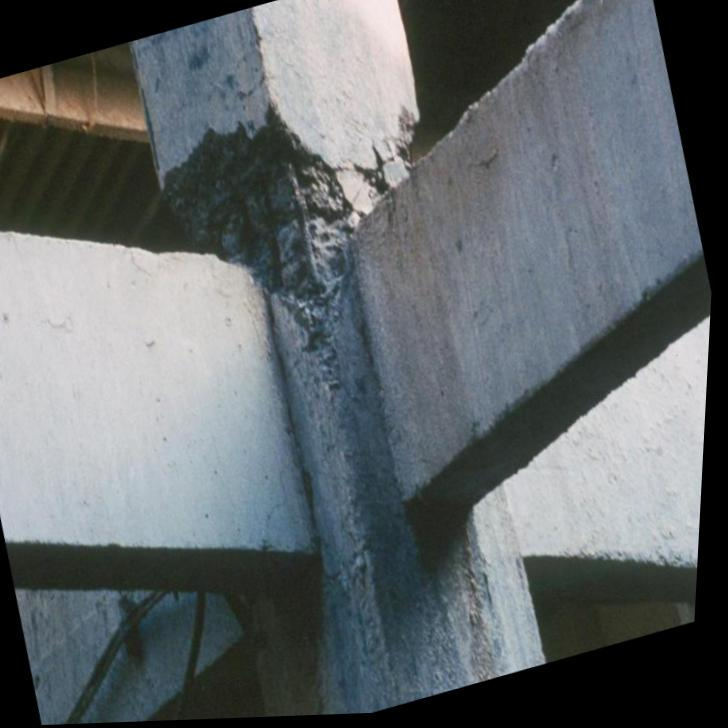damage: (161, 98, 425, 385)
